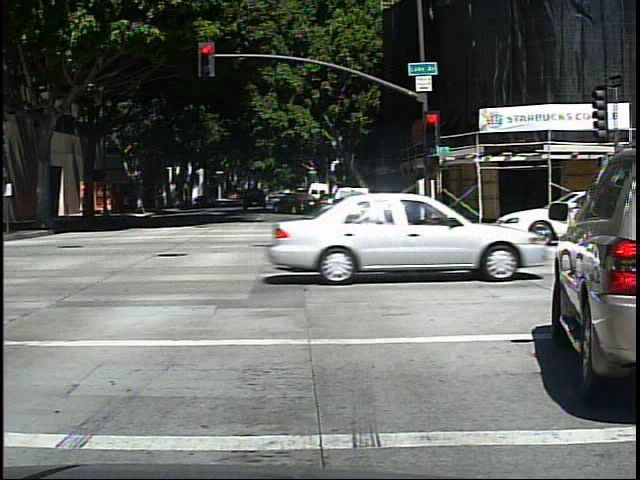person: (75, 186, 92, 220)
